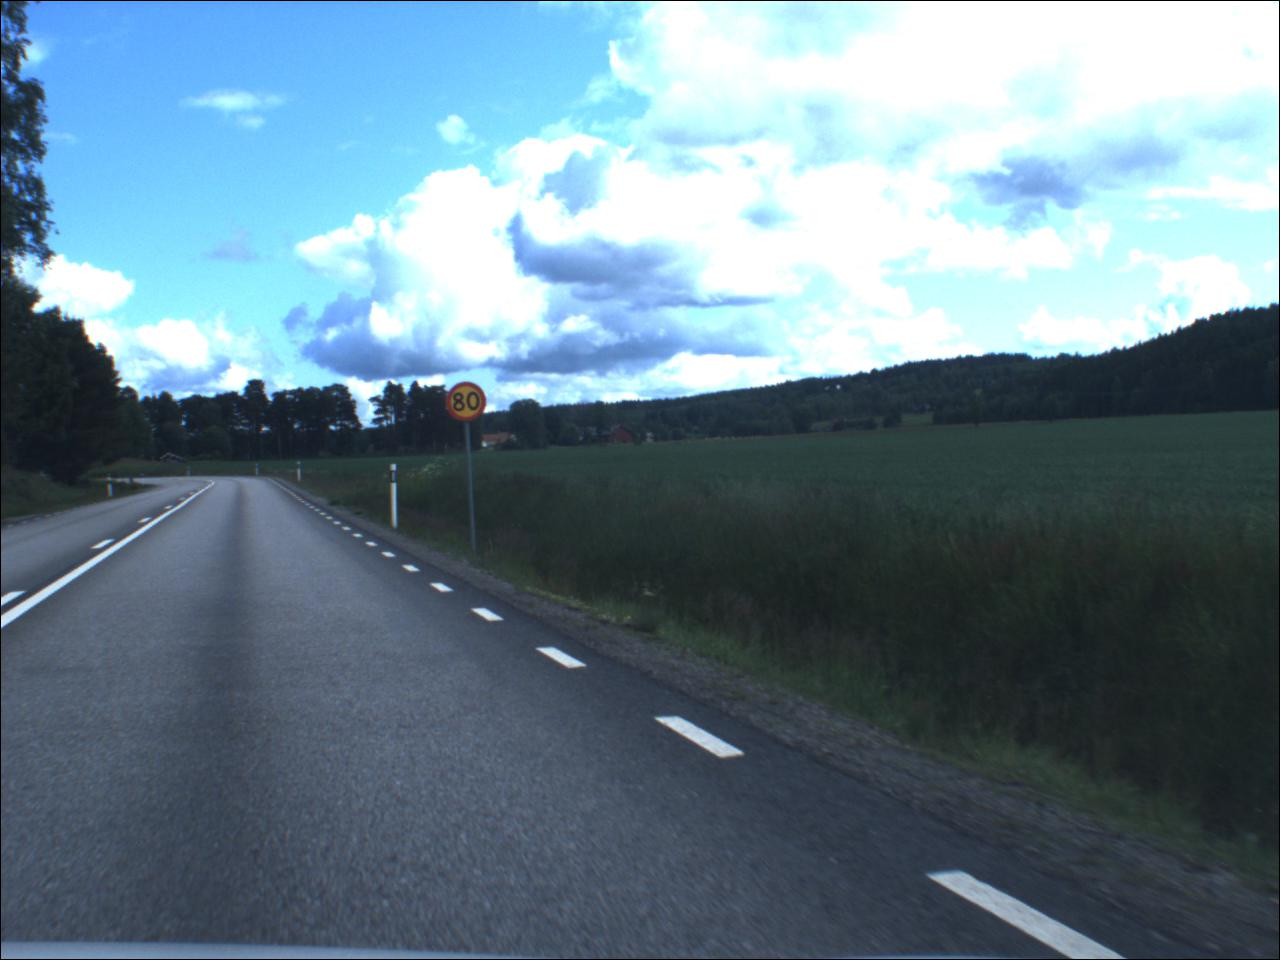80_SIGN: (447, 382, 491, 423)
